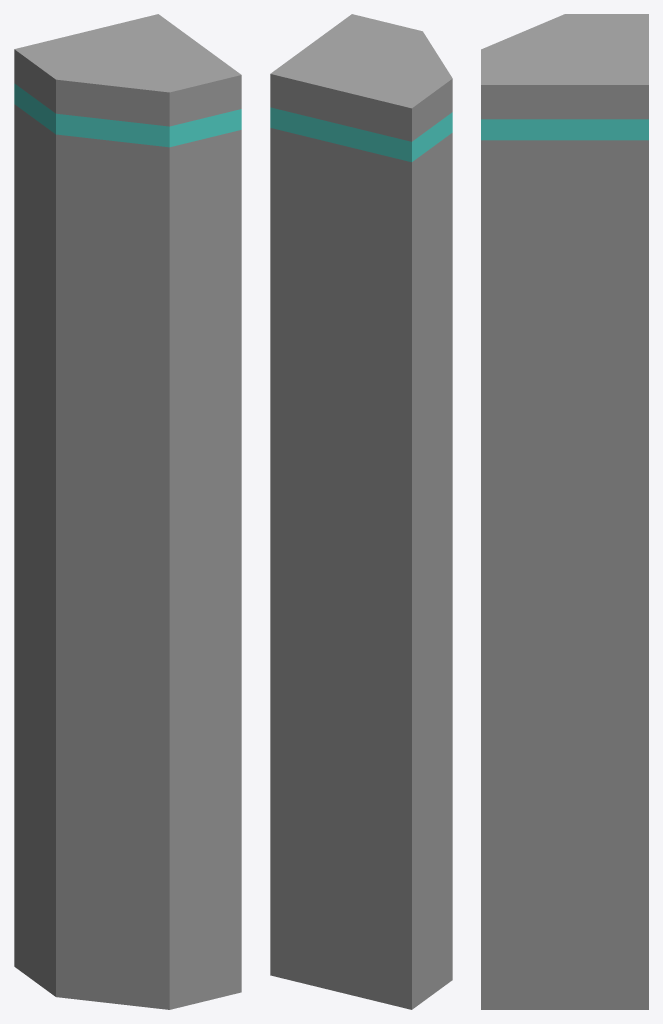
File: ROom_3_3_PillarElement.fbx
The picture shows the model from 3 angles, left to right: view 1: azimuth 30°, elevation 25°; view 2: azimuth 150°, elevation 25°; view 3: azimuth 270°, elevation 25°; orthographic projection. The views are drawn at different scales.
Parts seen in each view (by area): view 1: pCube2; view 2: pCube2; view 3: pCube2.
Part boxes in pixels (bbox=[...]): pCube2: bbox=[14, 14, 241, 1009]; pCube2: bbox=[270, 14, 452, 1009]; pCube2: bbox=[481, 14, 648, 1009].
Bounding box in the file's own units: 800 × 4866 × 800.
